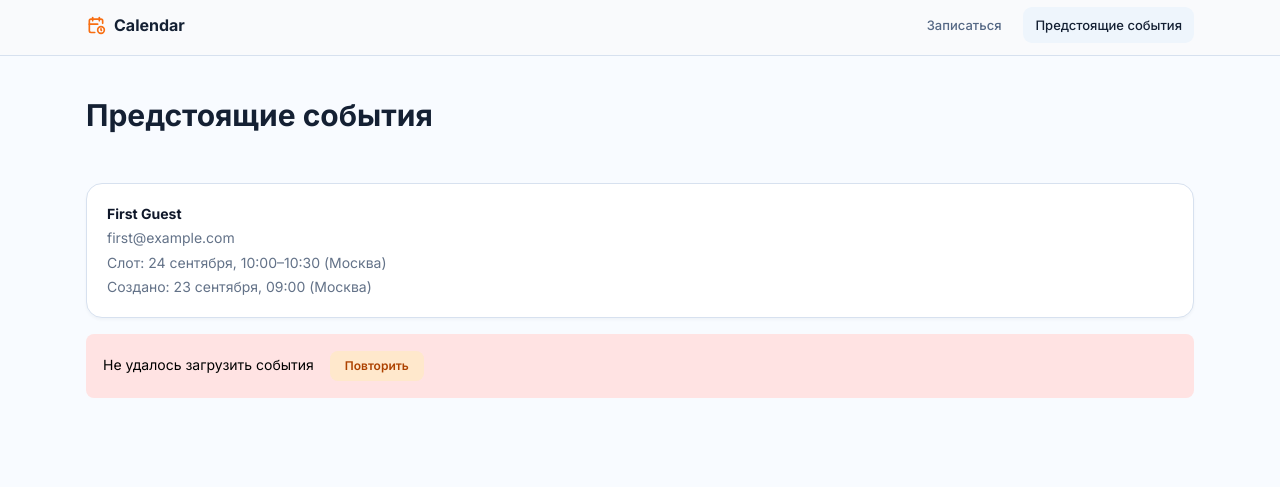
Test case: calendar pages › preserves loaded cards and retries the failed lazy load
Check: the text "Не удалось загрузить события" is shown, box [103,356,318,373]
Check: the text "first@example.com" is shown, box [107,229,235,246]
Click the button "Повторить" at {"x": 377, "y": 366}, box [330,351,424,381]
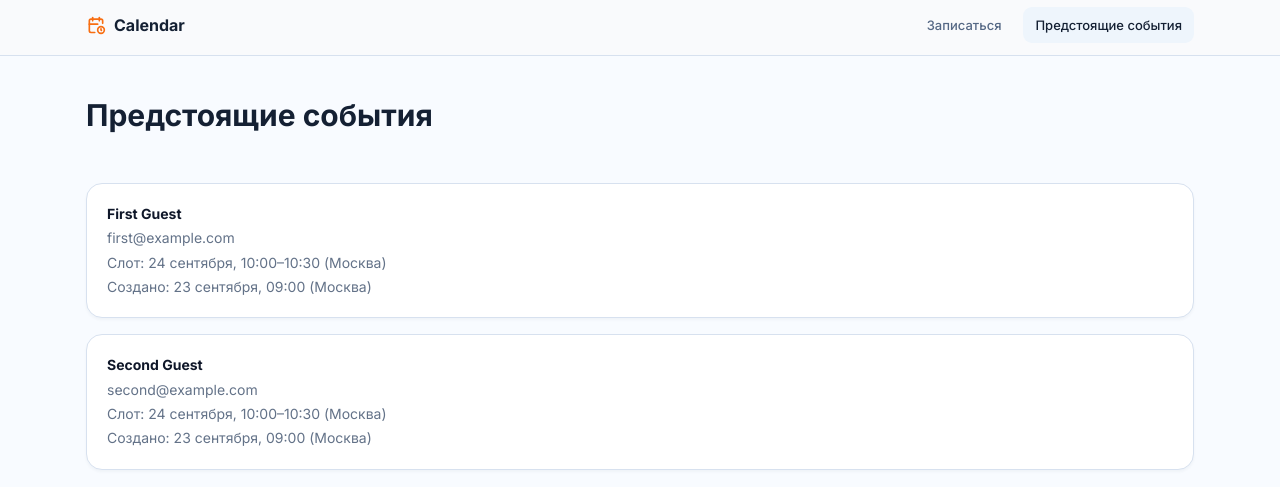
Check: the text "first@example.com" is shown, box [107,229,235,246]
Check: the text "second@example.com" is shown, box [107,381,258,398]
